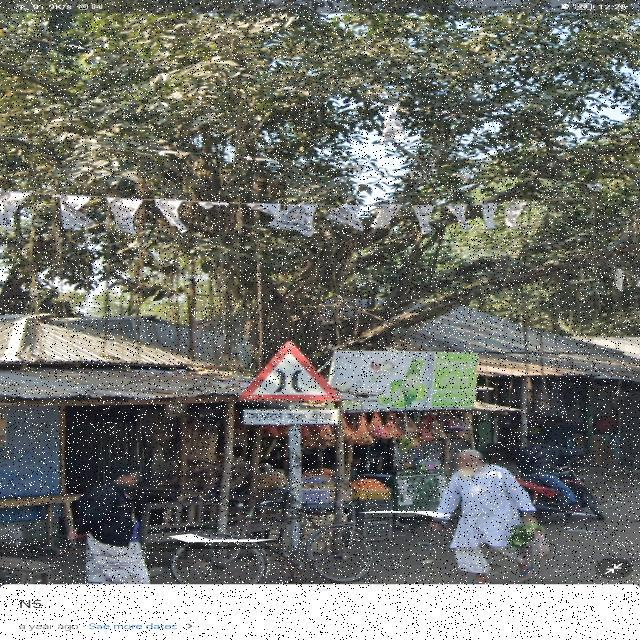Ahead-of-the-bridge: (238, 336, 349, 432)
